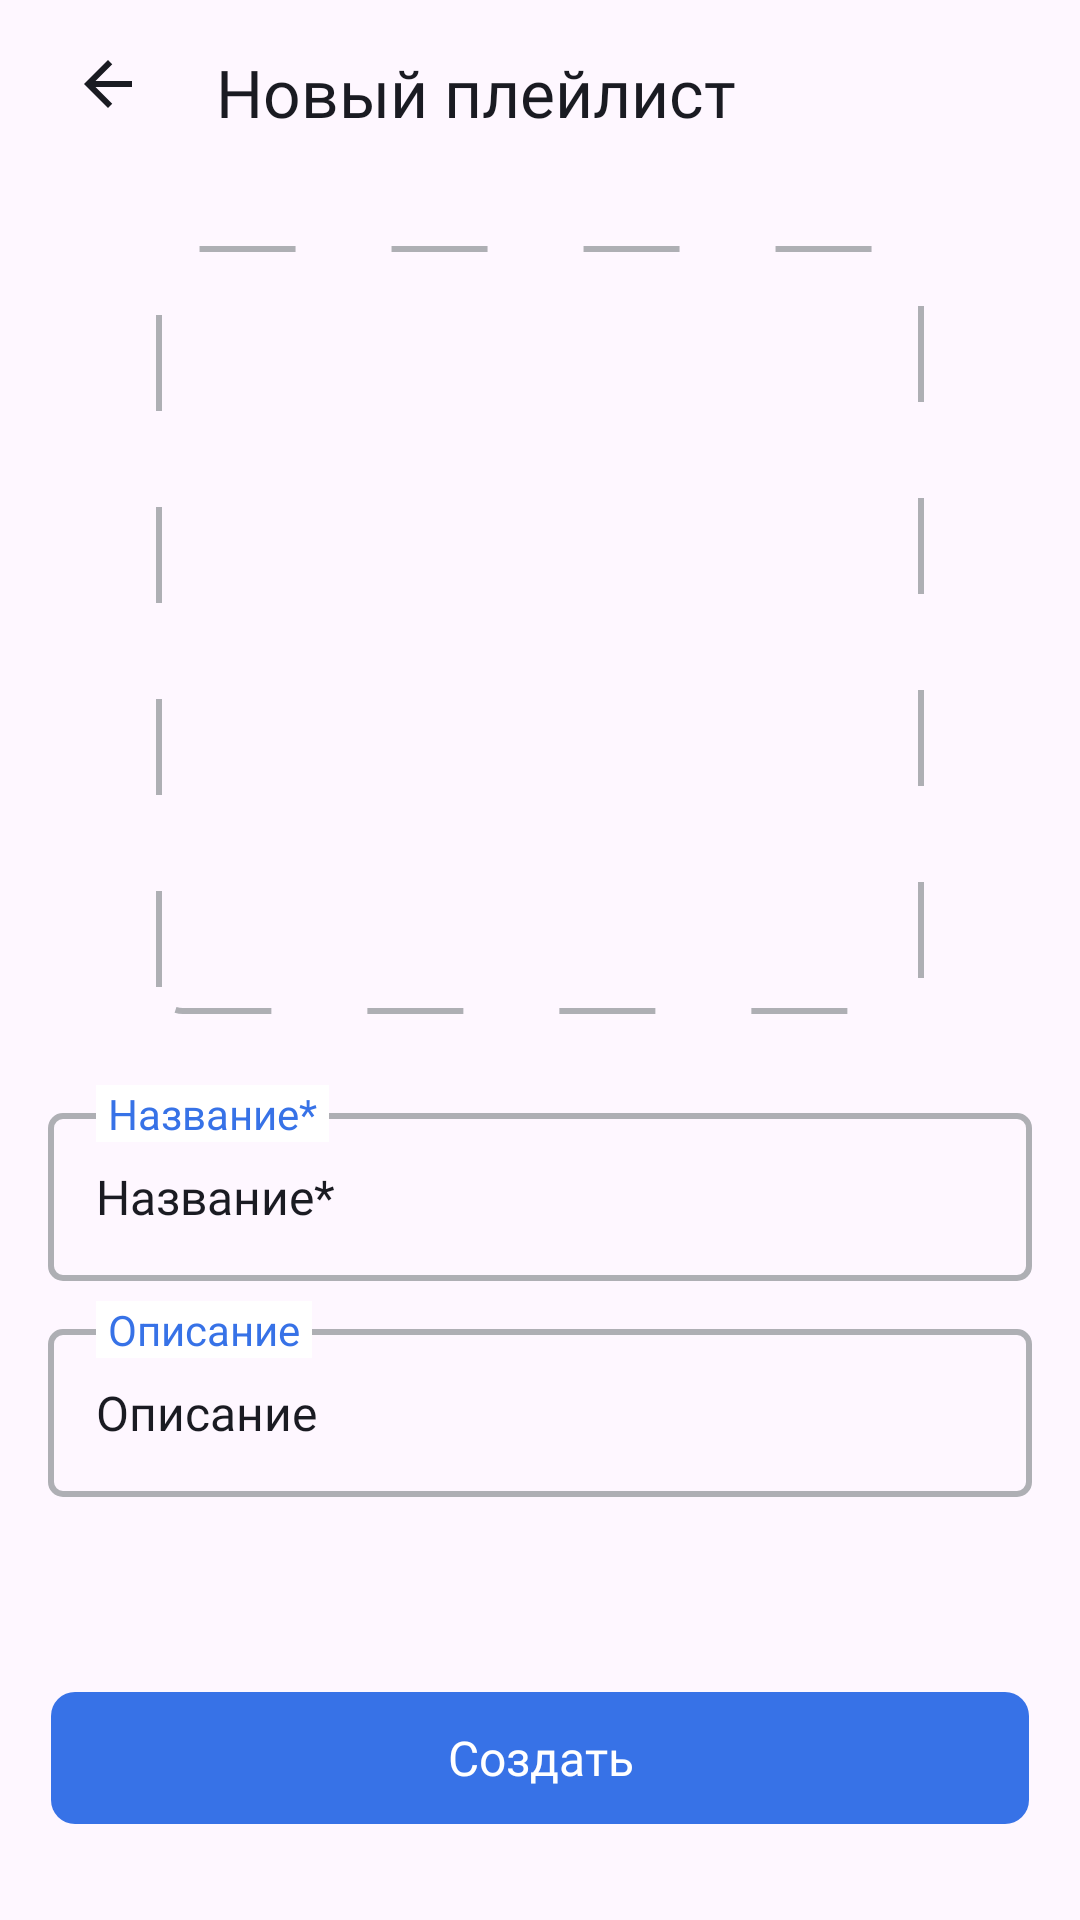

Named icons in this screenshot (1080*1920) and their bounding boxes, (x1, y1, x2, y2):
arrow back: (84, 60, 132, 108)
